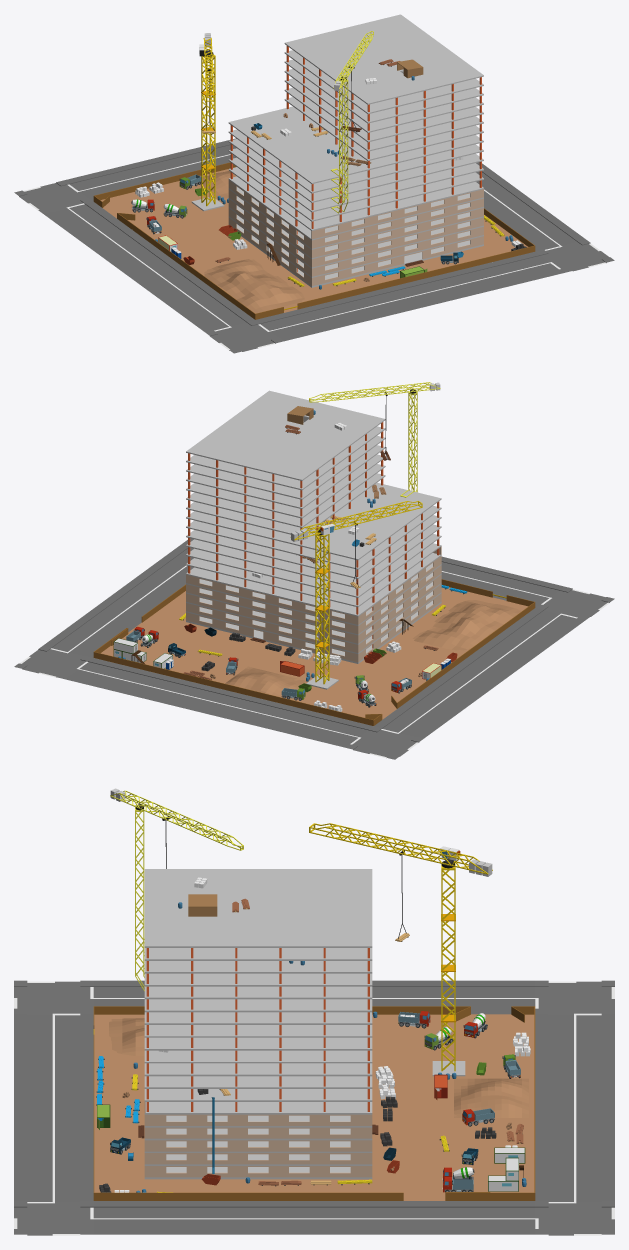
Rendered from site_tour.glb.
3 views of the same model, one above another, from view 1: azimuth 30°, elevation 25°; view 2: azimuth 150°, elevation 25°; view 3: azimuth 270°, elevation 25° (orthographic). The views are drawn at different scales.
Visible parts, largest first — view 1: HouseConstructionSite, Roads; view 2: HouseConstructionSite, Roads; view 3: HouseConstructionSite, Roads.
Part boxes in pixels (x1,y1,x2,y2): HouseConstructionSite: (93,14,535,319); Roads: (14,138,614,353); HouseConstructionSite: (93,382,535,725); Roads: (14,538,614,759); HouseConstructionSite: (93,788,535,1200); Roads: (14,980,614,1235).
Size of the model in its own units: 136 by 71.51 by 136.
Materials: 2 (2 with a texture image).
